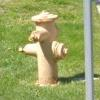a fire hydrant: (22, 13, 64, 86)
